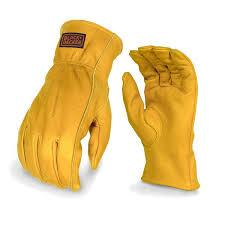gloves: (16, 19, 123, 192), (121, 45, 201, 191)
